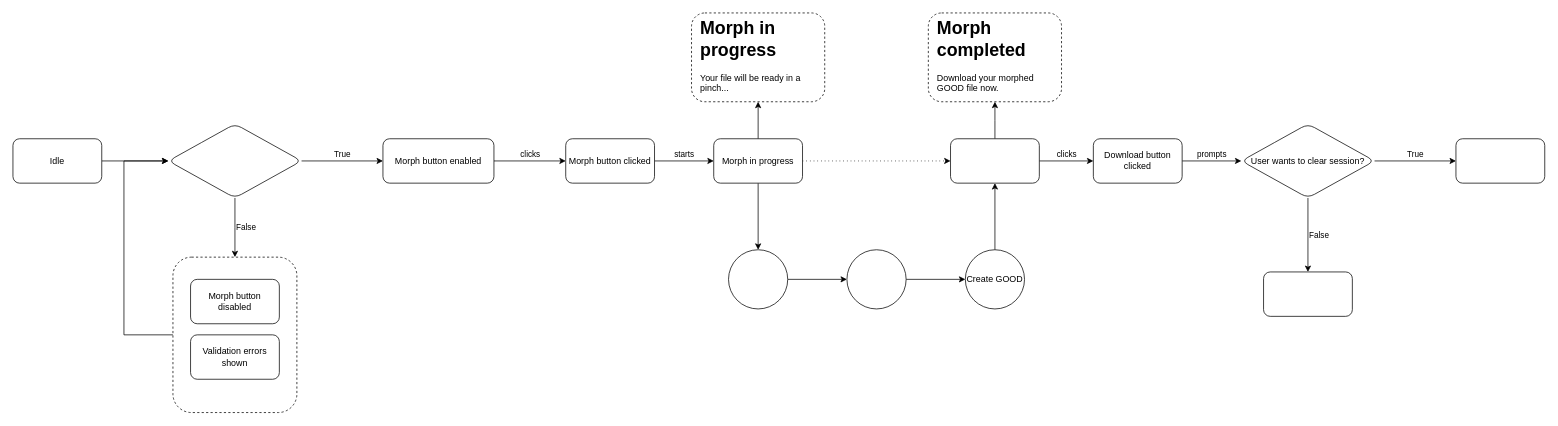
Image size: 1558x426. Some labels were removed from this diagram. Here are the shapes that lost their labels. From the top down, the centre of each, then its label:
the point at 235,160: Is current ruleset valid?
the point at 994,160: Download button enabled
the point at 1500,160: Session cleared. Initial screen showed.
the point at 758,279: Open modal (blocks UI)
the point at 876,279: Apply mutations
the point at 1307,293: Back to ruleset page
